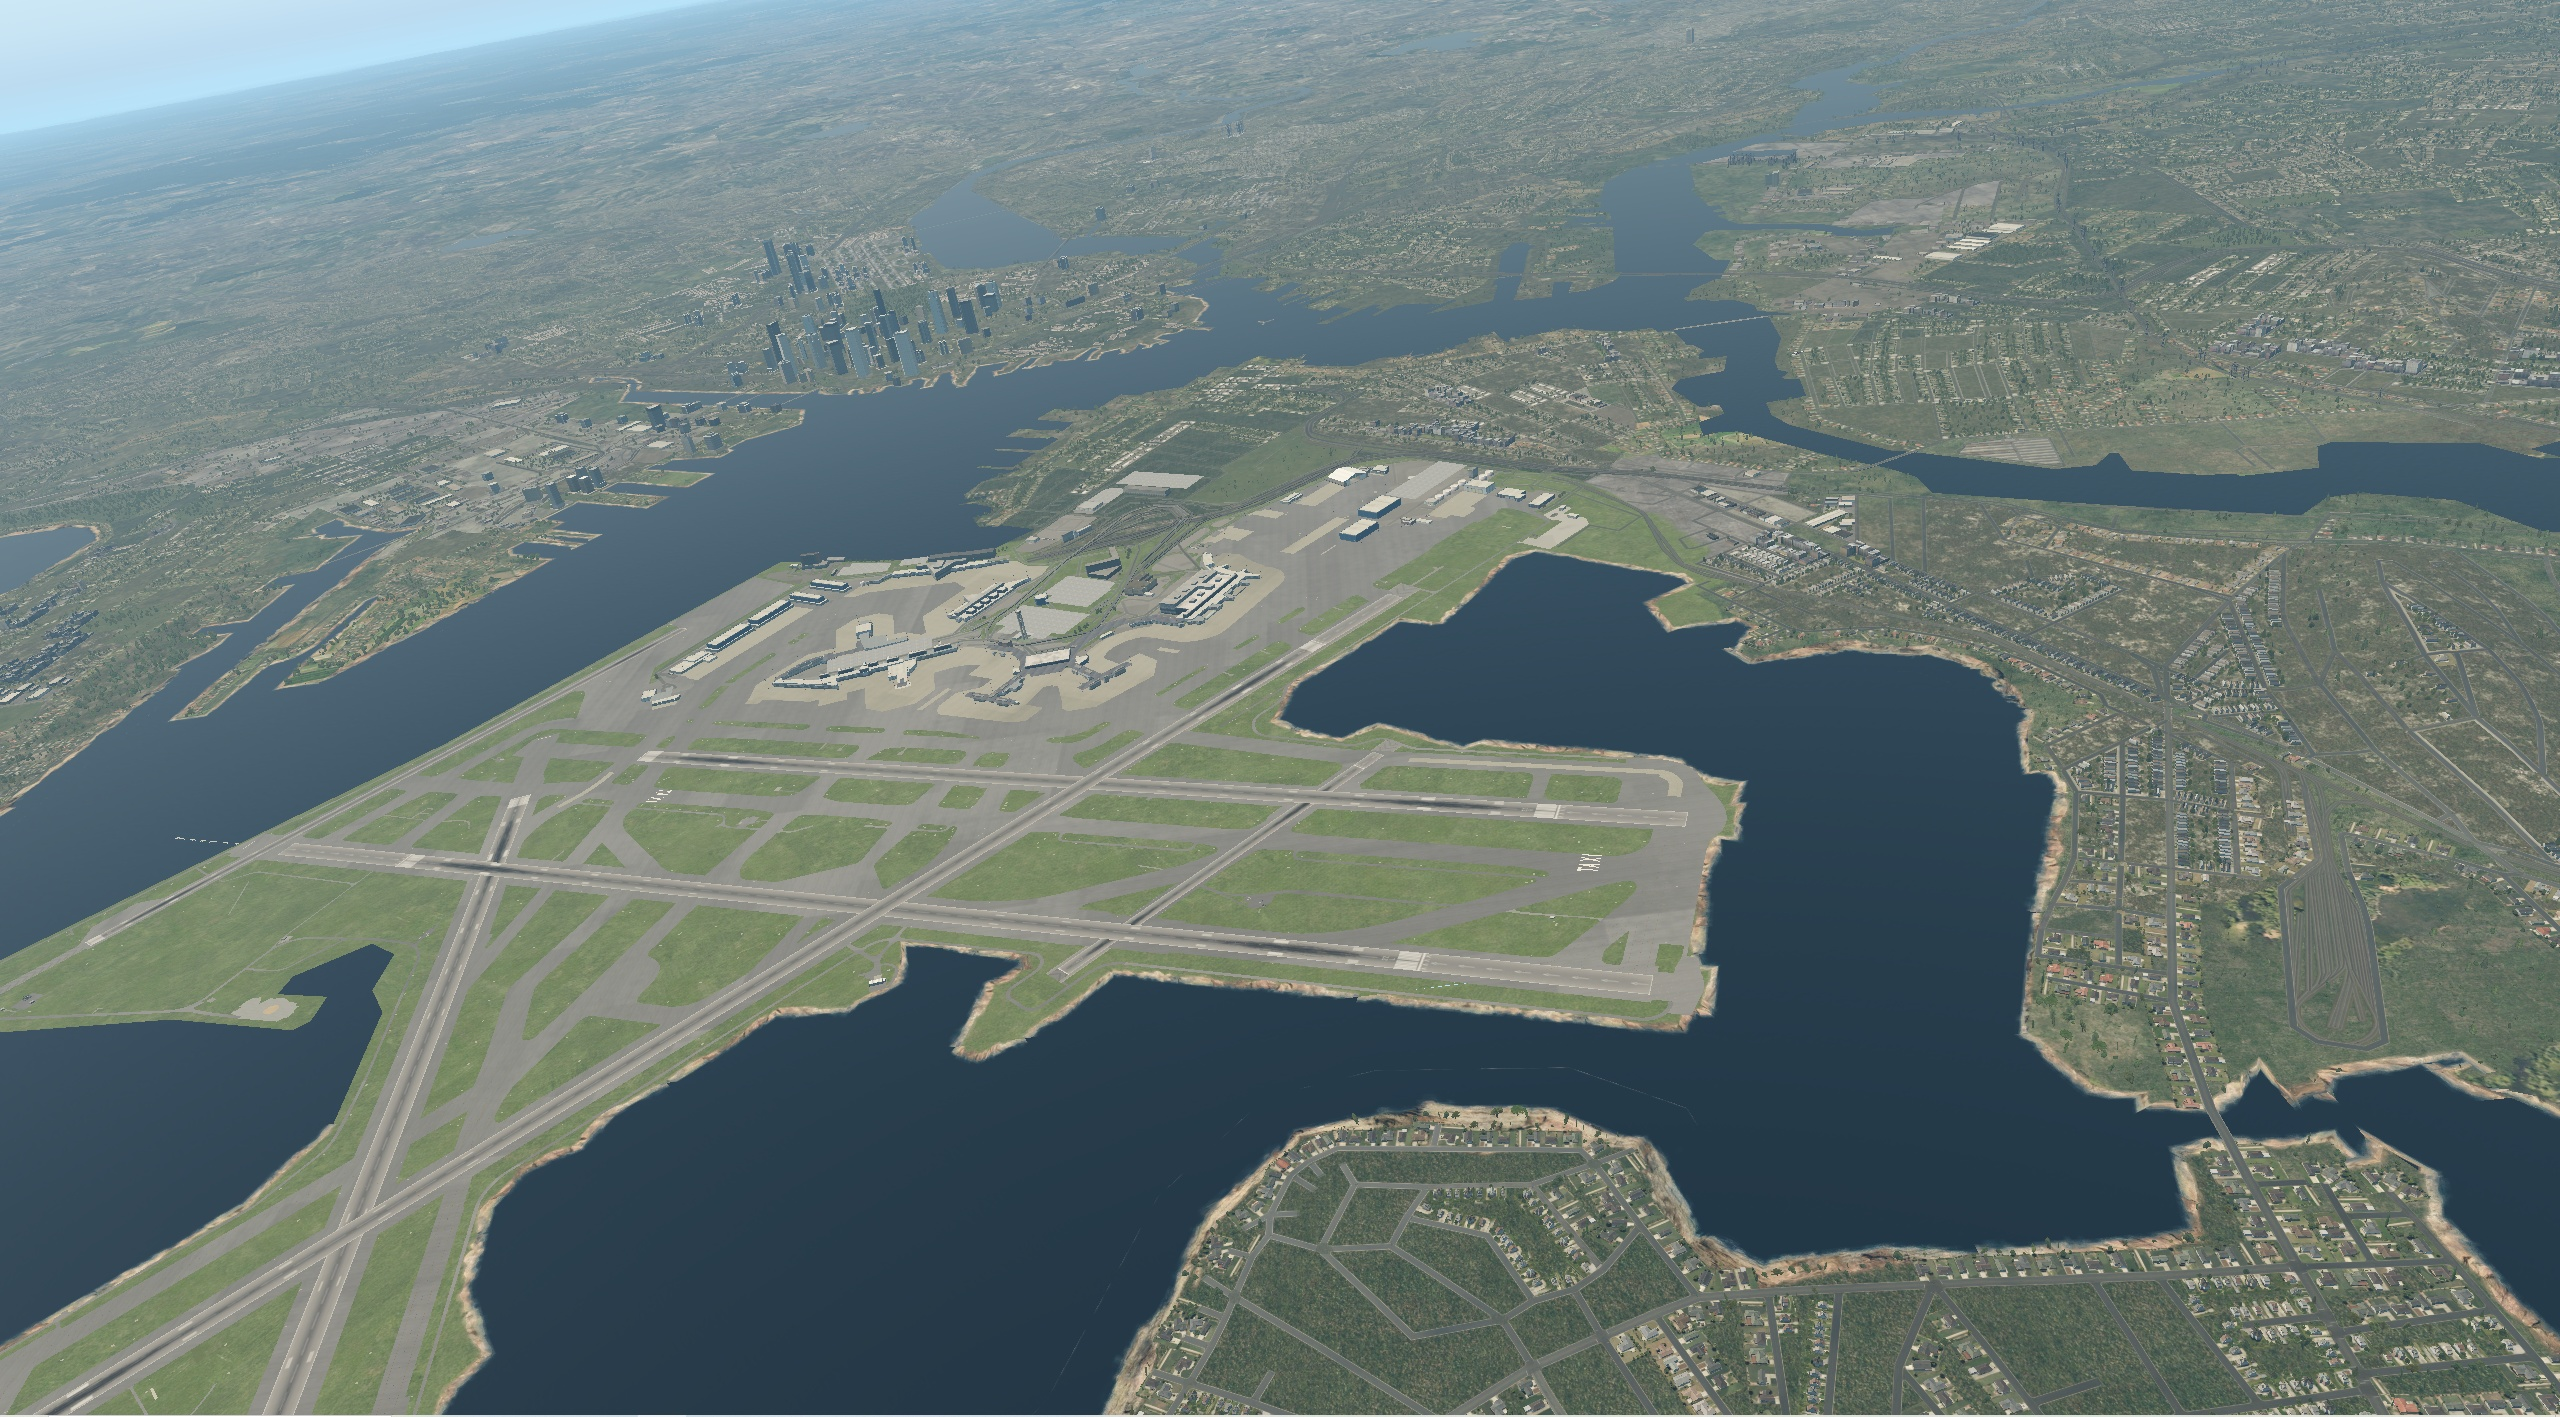aircraft: (1790, 349, 1806, 356)
